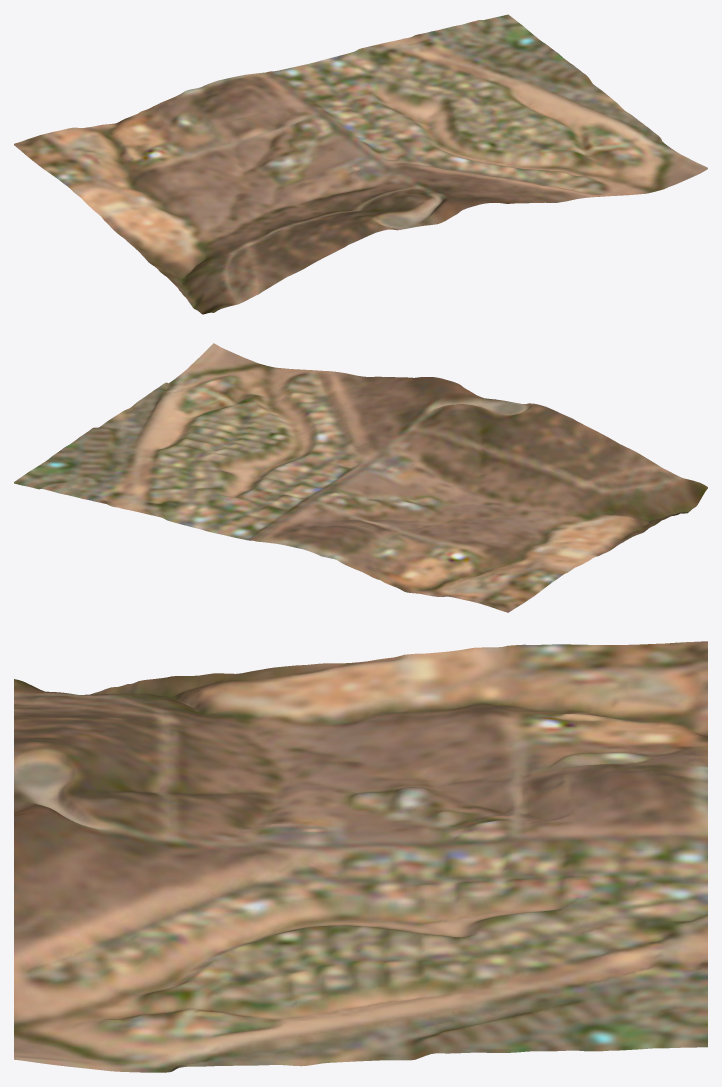
The model's file is terrain_r4_c1.glb.
3 views of the same model, one above another, from view 1: azimuth 30°, elevation 25°; view 2: azimuth 150°, elevation 25°; view 3: azimuth 270°, elevation 25° (orthographic). The views are drawn at different scales.
Parts seen in each view (by area): view 1: terrain_r4_c1_lod0; view 2: terrain_r4_c1_lod0; view 3: terrain_r4_c1_lod0.
Boxes of the visible parts, x1,y1,x2,y2 form: terrain_r4_c1_lod0: (14, 14, 707, 314); terrain_r4_c1_lod0: (14, 343, 707, 612); terrain_r4_c1_lod0: (14, 641, 707, 1072).
Bounding box in the file's own units: 1125 × 120 × 787.
Materials: 1 (1 with a texture image).
